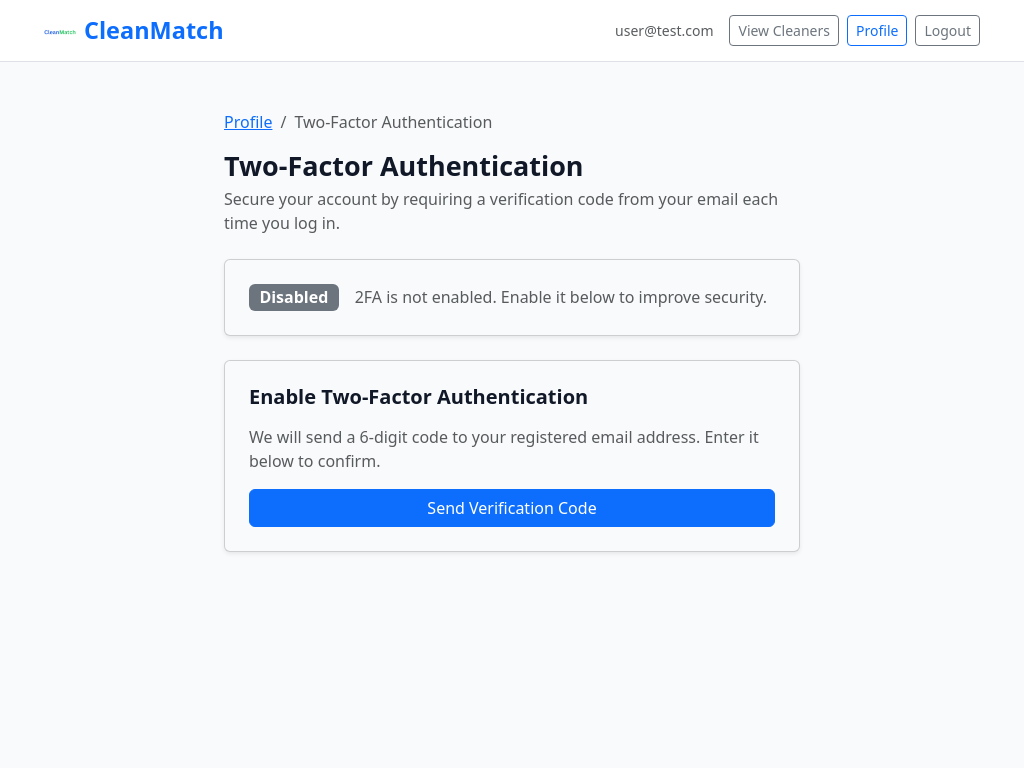
Scenario: TwoFactorSetupPage › shows OTP input after clicking Send Verification Code
Click the button "Send Verification Code" at (512, 508), box [249,489,775,527]
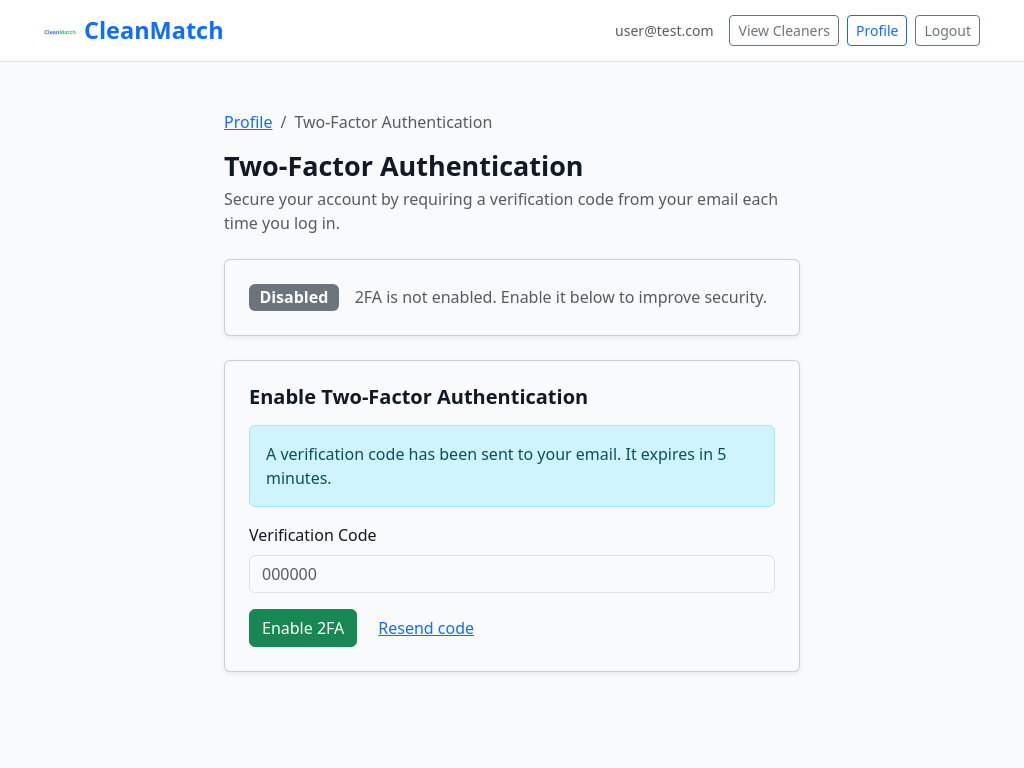
Result: the button "Enable 2FA" is shown at [249,609,357,647]
